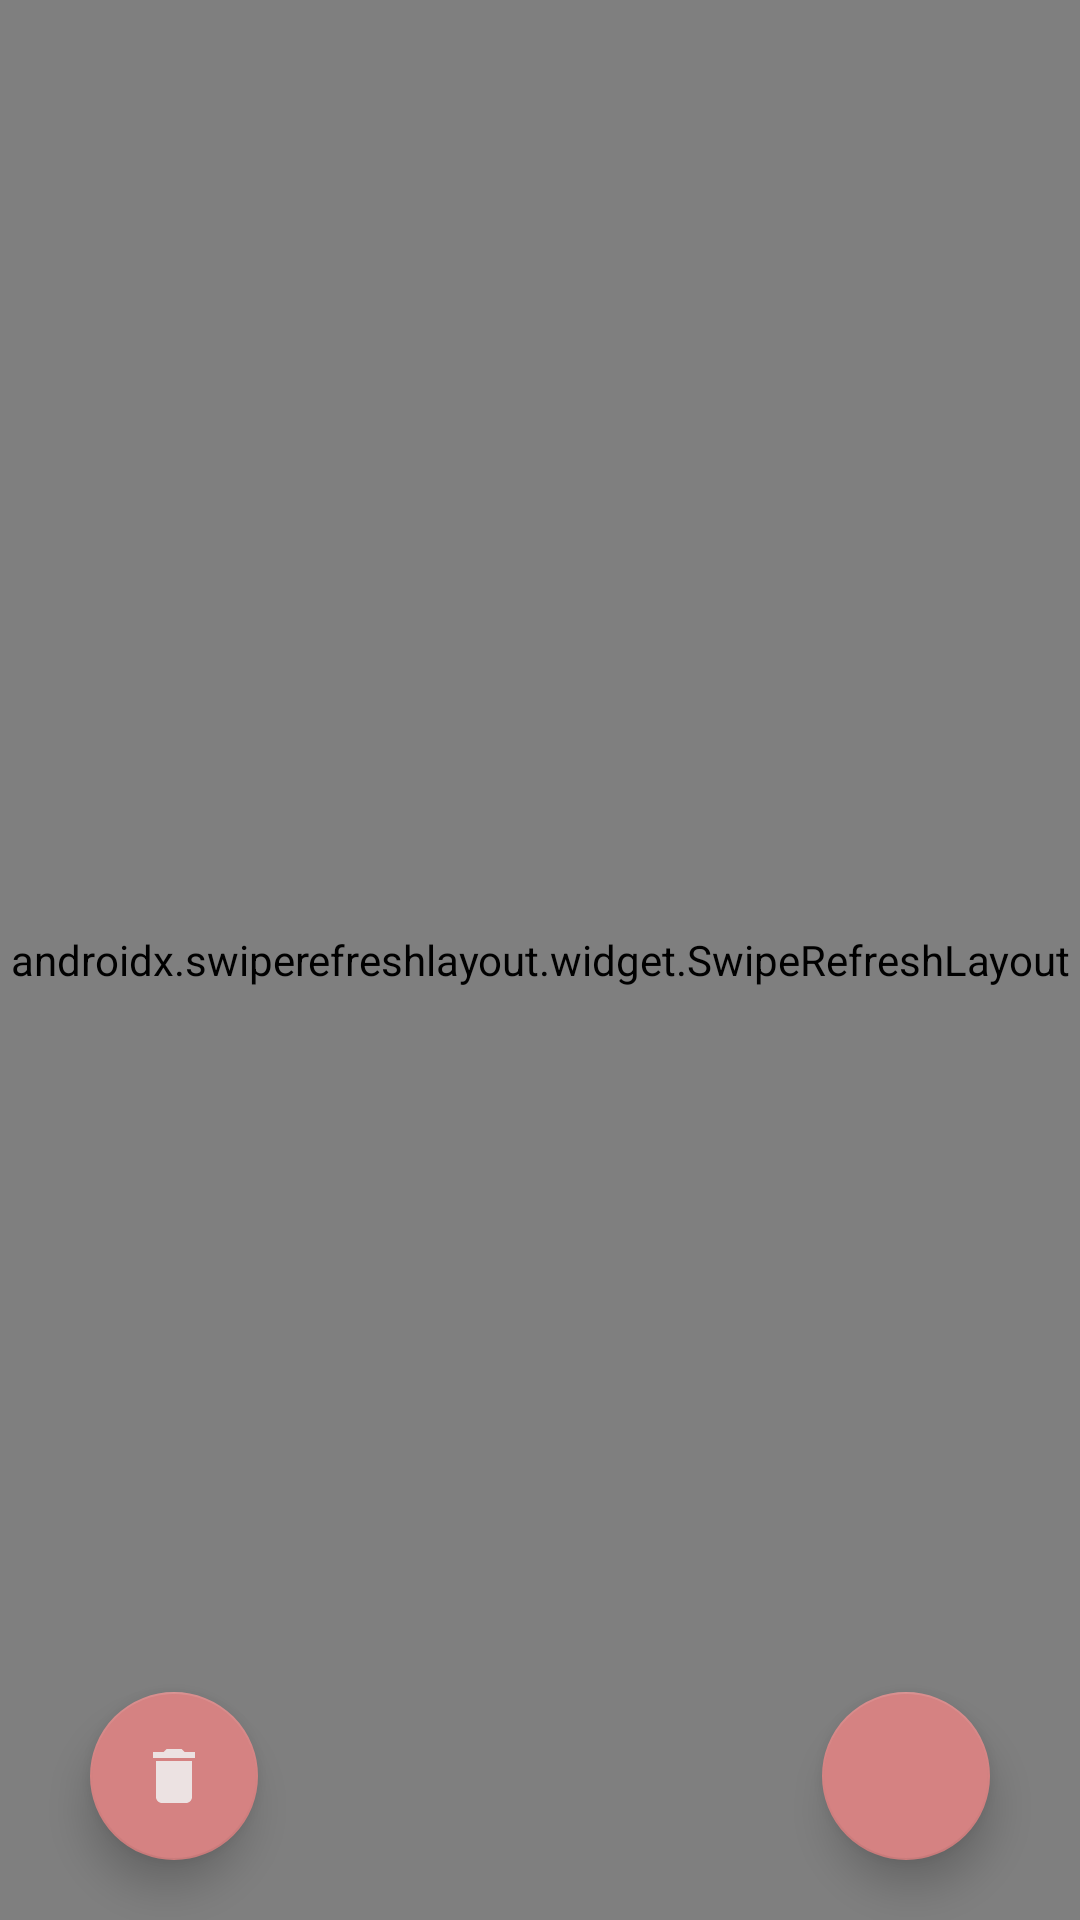

Icons on this 1080×1920 Android screen, each with its box as (x1, y1, x2, y2):
delete: (90, 1692, 258, 1860)
